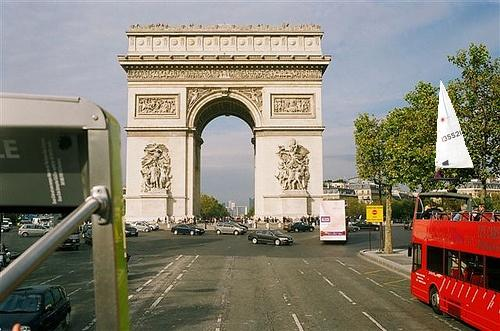tampered: (427, 80, 474, 180)
